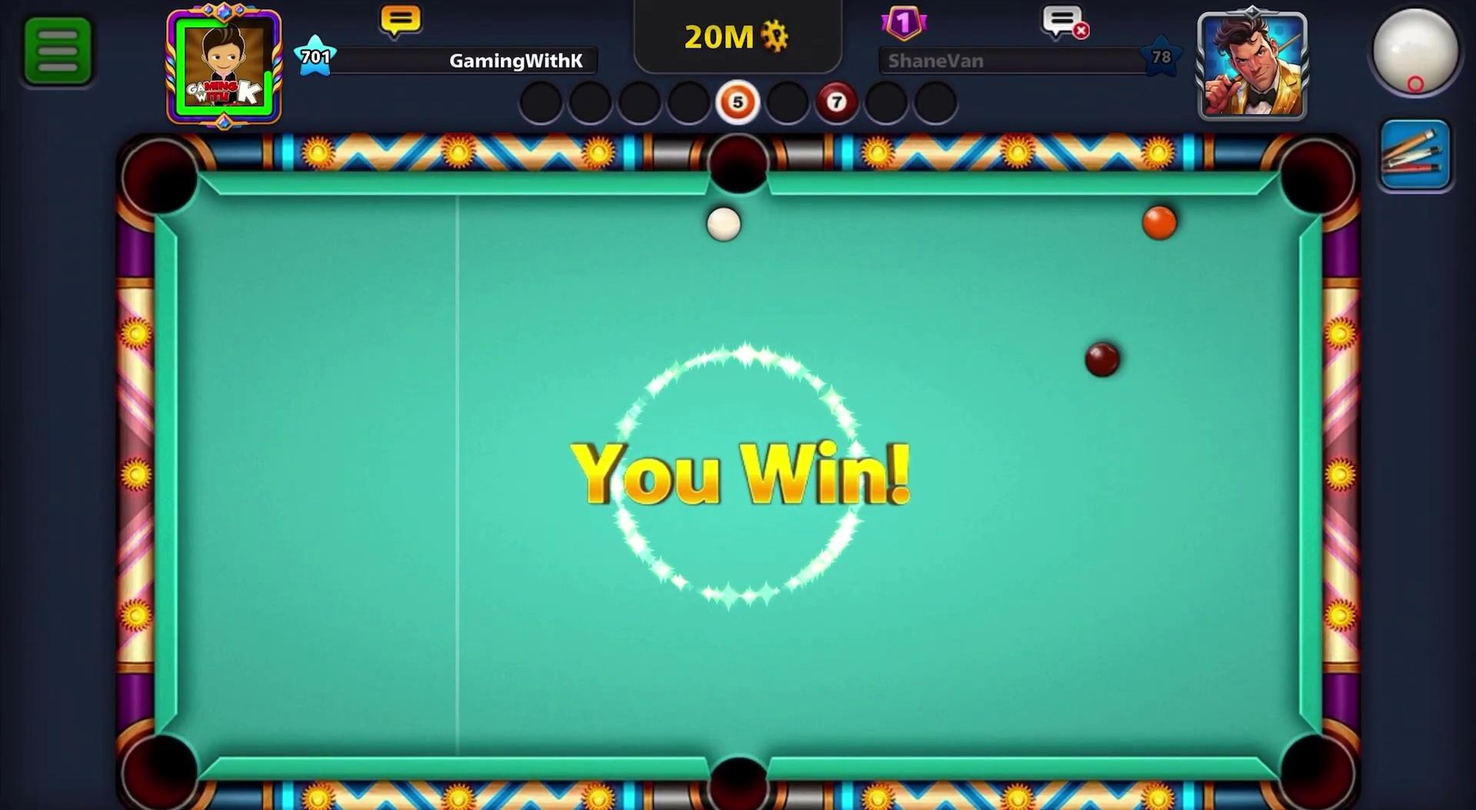Ball: (1080, 337, 1125, 382), (1138, 203, 1181, 244)
Hole: (108, 129, 212, 230), (1268, 131, 1364, 233), (1265, 719, 1364, 809), (111, 722, 208, 809), (687, 732, 785, 809), (696, 126, 783, 207)
Play_Area: (177, 193, 1307, 762)
Spin: (1341, 0, 1474, 119)
White: (698, 201, 747, 245), (887, 473, 917, 510)
